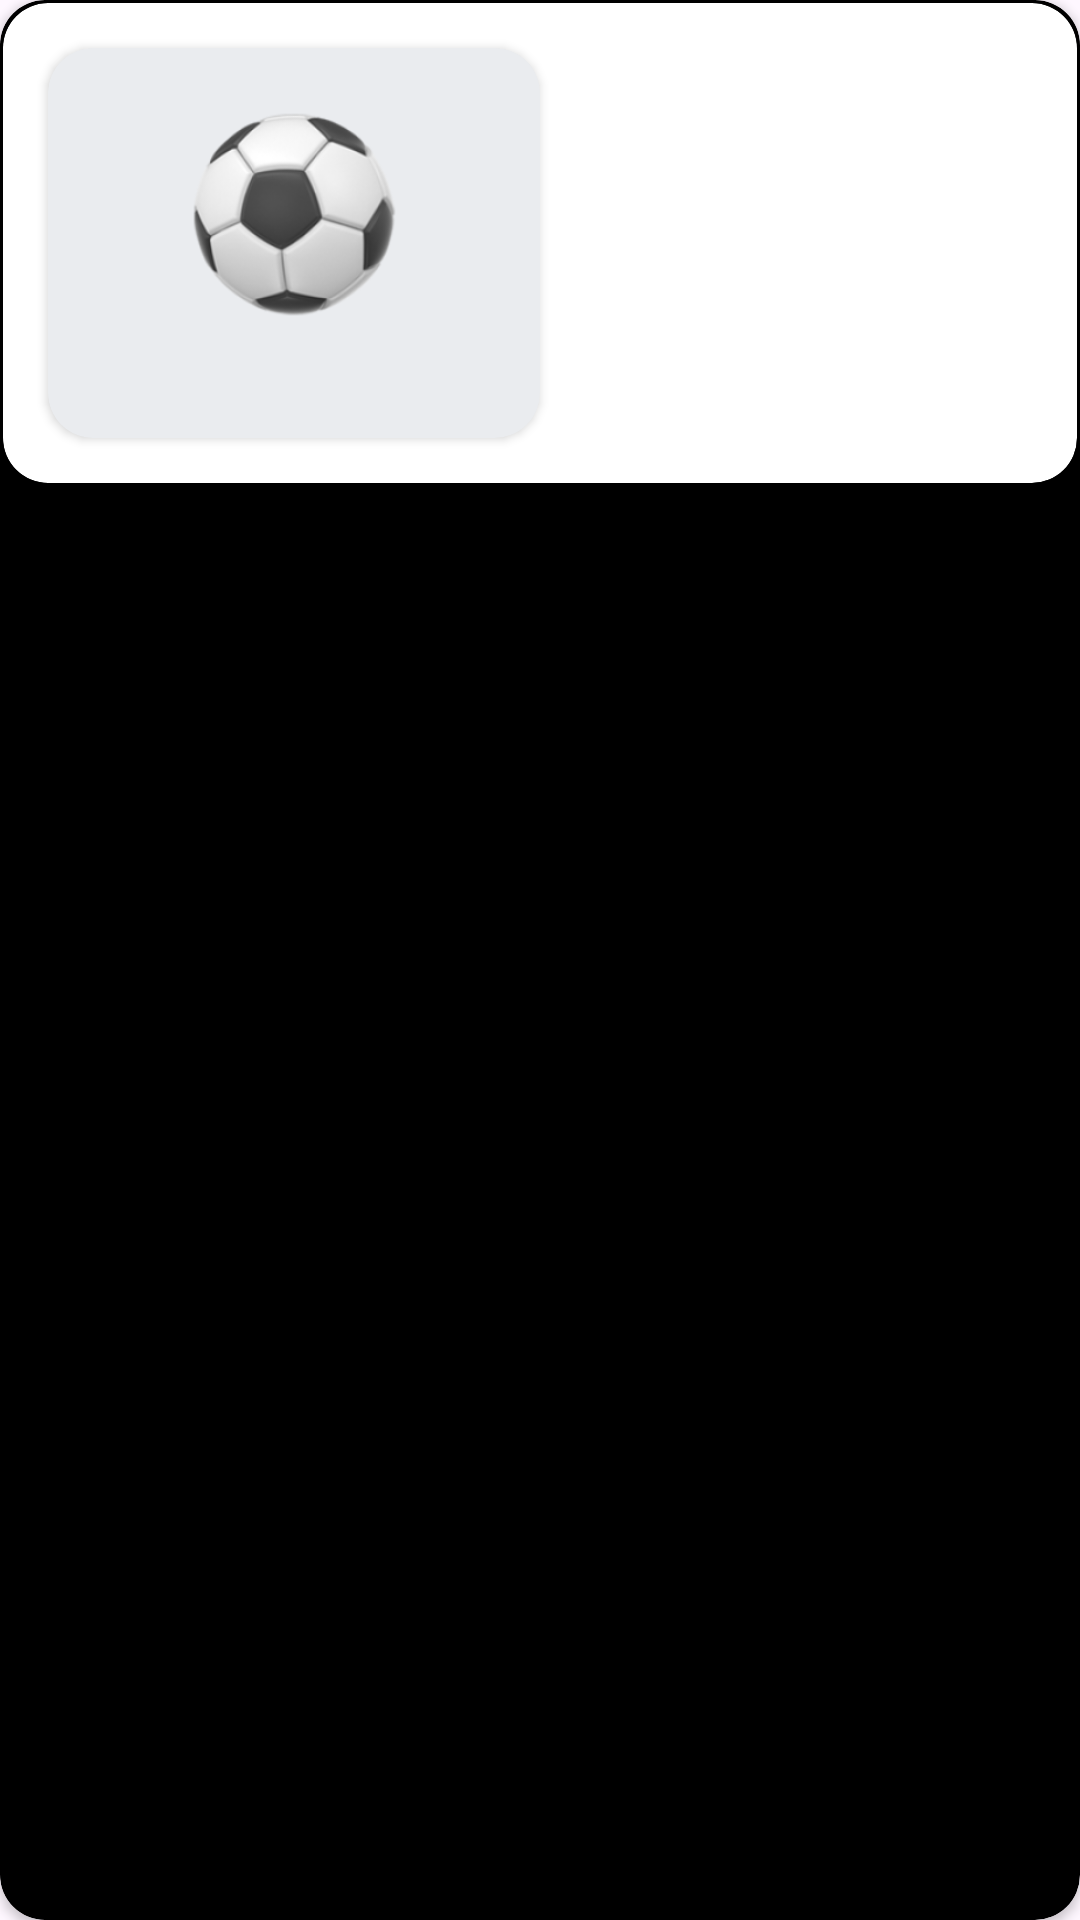

Icon bounding boxes for this 1080 × 1920 phone screenshot, format {"left": x1, "top": y1, "right": x2, "bottom": y2}:
category football: {"left": 194, "top": 116, "right": 395, "bottom": 315}
